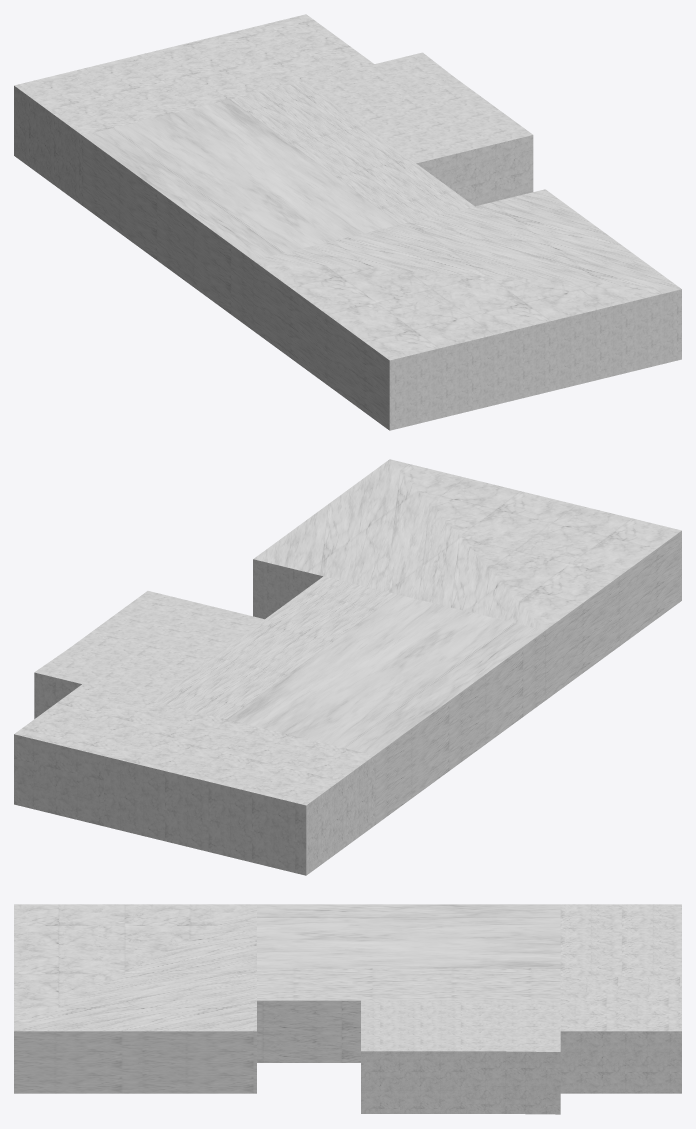
Rendered from officemap.fbx.
3 renders of one model, top to bottom at view 1: azimuth 30°, elevation 25°; view 2: azimuth 150°, elevation 25°; view 3: azimuth 270°, elevation 25°, orthographic. The views are drawn at different scales.
Visible parts, largest first — view 1: Reception, Main Office, Meeting Room, Plane, Hallway; view 2: Reception, Meeting Room, Main Office, Plane, Hallway; view 3: Reception, Meeting Room, Plane, Main Office, Hallway.
Part boxes in pixels (bbox=[...]): Reception: bbox=[253, 189, 681, 430]; Main Office: bbox=[82, 99, 400, 330]; Meeting Room: bbox=[14, 14, 374, 205]; Plane: bbox=[304, 52, 533, 206]; Hallway: bbox=[230, 81, 474, 224]; Reception: bbox=[253, 459, 681, 700]; Meeting Room: bbox=[14, 684, 374, 875]; Main Office: bbox=[227, 594, 545, 825]; Plane: bbox=[34, 591, 264, 718]; Hallway: bbox=[153, 576, 396, 719]; Reception: bbox=[14, 904, 256, 1093]; Meeting Room: bbox=[560, 904, 681, 1093]; Plane: bbox=[361, 1000, 560, 1114]; Main Office: bbox=[257, 904, 560, 968]; Hallway: bbox=[257, 968, 560, 1062].
Size of the model in its own units: 1151 by 233 by 2200.
